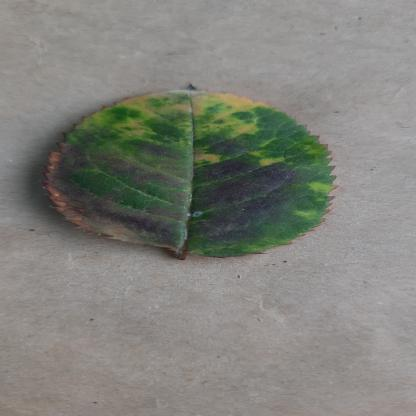downy-mildew: (28, 87, 345, 259)
